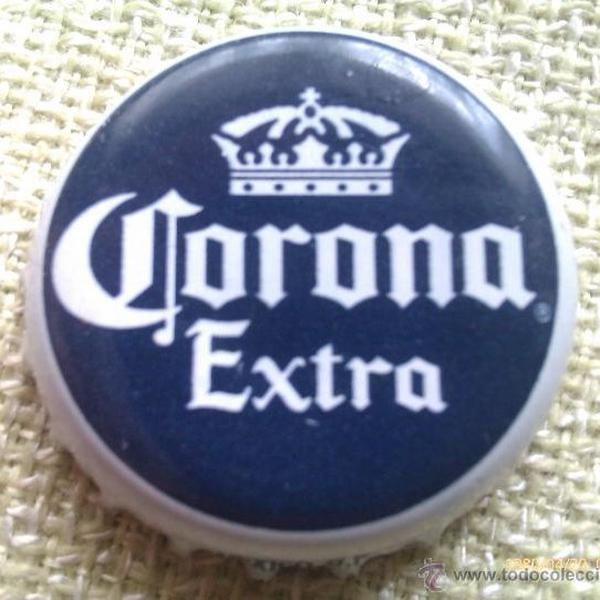corona: (13, 15, 580, 572)
